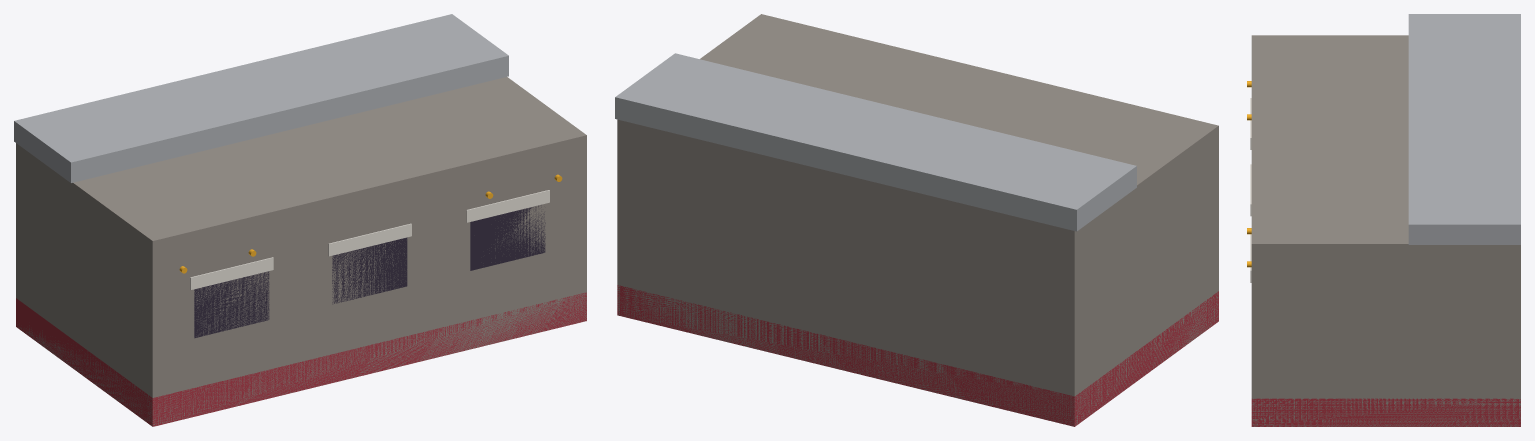
Rendered from bakery_oven.glb.
3 renders of one model, left to right at view 1: azimuth 30°, elevation 25°; view 2: azimuth 150°, elevation 25°; view 3: azimuth 270°, elevation 25°, orthographic. The views are drawn at different scales.
Parts seen in each view (by area): view 1: oven_body, hood, brick_base, deck_mouth_0, deck_mouth_1, deck_mouth_2, deck_lintel_1, deck_lintel_0, deck_lintel_2; view 2: oven_body, hood, brick_base; view 3: oven_body, hood, brick_base.
Boxes of the visible parts, box(x1,y1,x2,y2) form: oven_body: box(16, 77, 586, 426); hood: box(14, 14, 508, 182); brick_base: box(16, 292, 586, 426); deck_mouth_0: box(194, 271, 269, 338); deck_mouth_1: box(332, 237, 407, 304); deck_mouth_2: box(470, 205, 545, 270); deck_lintel_1: box(328, 223, 411, 256); deck_lintel_0: box(190, 257, 273, 289); deck_lintel_2: box(466, 190, 549, 222); oven_body: box(617, 14, 1218, 426); hood: box(615, 53, 1136, 231); brick_base: box(617, 285, 1218, 426); oven_body: box(1251, 35, 1520, 426); hood: box(1408, 14, 1520, 244); brick_base: box(1251, 398, 1520, 426).
Bounding box in the file's own units: 4.44 × 2 × 2.44.
